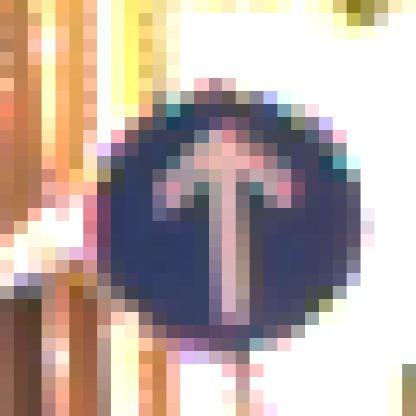AheadOnly: (84, 79, 348, 339)
